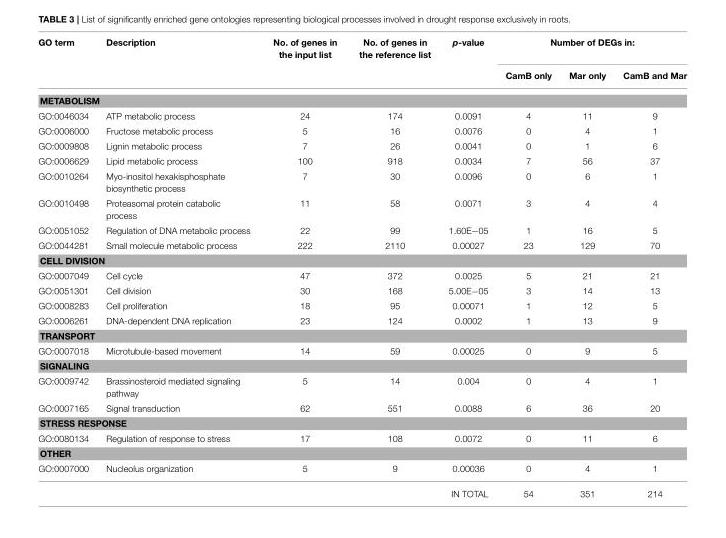table: (37, 37, 686, 498)
table column: (96, 37, 260, 498), (347, 37, 438, 498), (260, 37, 347, 498), (613, 37, 686, 498), (496, 37, 559, 498), (37, 37, 96, 498), (438, 37, 496, 498), (559, 37, 613, 498)
table column header: (37, 37, 686, 88)
table projected row header: (37, 88, 686, 108), (37, 253, 686, 268), (37, 328, 686, 343), (37, 358, 686, 373), (37, 415, 686, 430), (37, 445, 686, 460)
table row: (37, 37, 686, 64), (37, 168, 686, 195), (37, 195, 686, 222), (37, 373, 686, 400), (37, 64, 686, 88), (37, 460, 686, 481), (37, 88, 686, 108), (37, 481, 686, 498), (37, 222, 686, 238), (37, 108, 686, 123), (37, 123, 686, 138), (37, 138, 686, 153), (37, 153, 686, 168), (37, 238, 686, 253), (37, 253, 686, 268), (37, 268, 686, 283), (37, 283, 686, 298), (37, 298, 686, 313), (37, 313, 686, 328), (37, 328, 686, 343), (37, 343, 686, 358), (37, 358, 686, 373), (37, 400, 686, 415), (37, 415, 686, 430), (37, 430, 686, 445), (37, 445, 686, 460)
table spanning cell: (96, 37, 260, 88), (496, 37, 686, 64), (347, 37, 438, 88), (260, 37, 347, 88), (37, 37, 96, 88), (438, 37, 496, 88), (37, 460, 96, 498)
